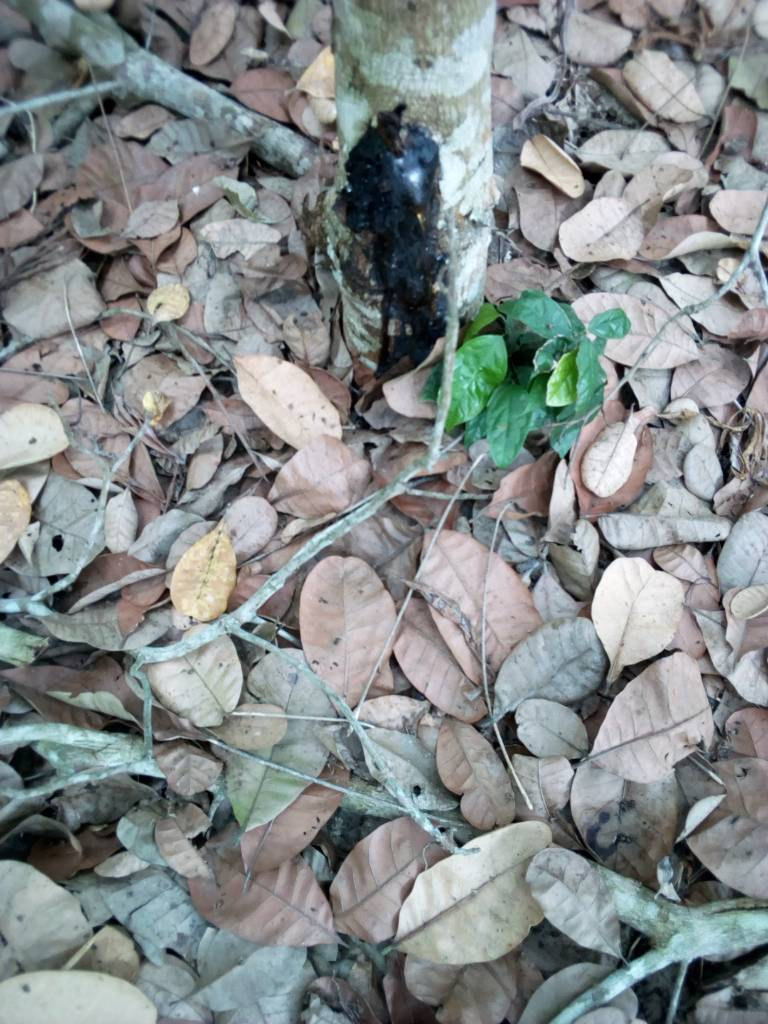Mecocorynus longiceps: (315, 96, 497, 421)
